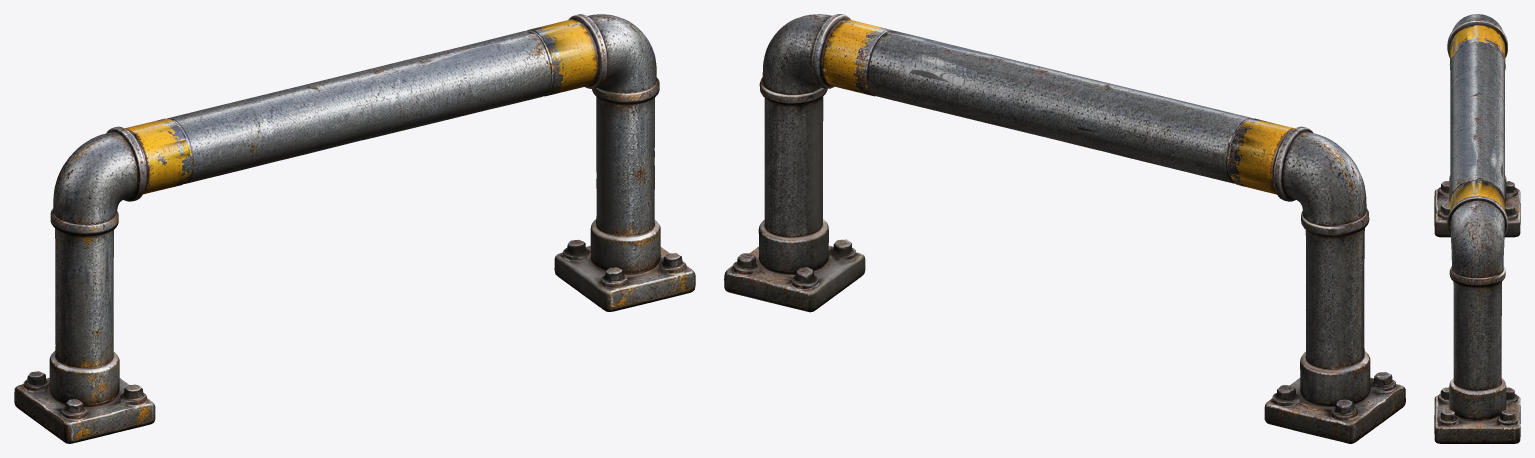
Rendered from pipe-rail.glb.
3 views of the same model, side by side, from view 1: azimuth 30°, elevation 25°; view 2: azimuth 150°, elevation 25°; view 3: azimuth 270°, elevation 25° (orthographic). The views are drawn at different scales.
Parts seen in each view (by area): view 1: tripo_node_3bdb5145-84f6-497a-bfa6-bc8aa1c0613e; view 2: tripo_node_3bdb5145-84f6-497a-bfa6-bc8aa1c0613e; view 3: tripo_node_3bdb5145-84f6-497a-bfa6-bc8aa1c0613e.
Boxes of the visible parts, bbox=[...] form: tripo_node_3bdb5145-84f6-497a-bfa6-bc8aa1c0613e: bbox=[14, 14, 695, 443]; tripo_node_3bdb5145-84f6-497a-bfa6-bc8aa1c0613e: bbox=[724, 14, 1405, 443]; tripo_node_3bdb5145-84f6-497a-bfa6-bc8aa1c0613e: bbox=[1434, 14, 1520, 443].
Bounding box in the file's own units: 0.9798 × 0.4093 × 0.1478.
1 material, 1 textured.
